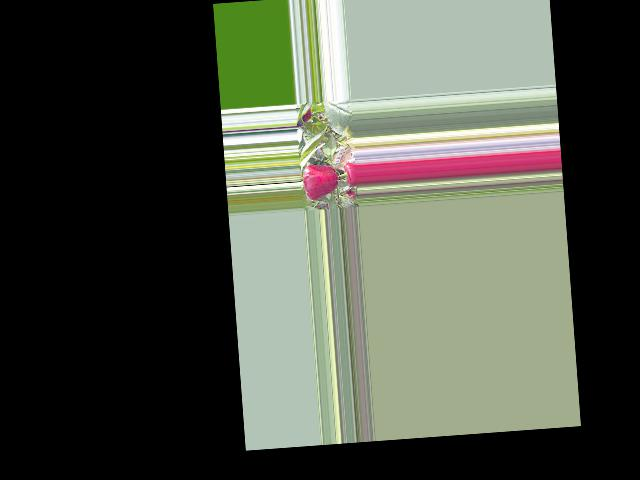bell_pepper: (341, 159, 358, 188)
